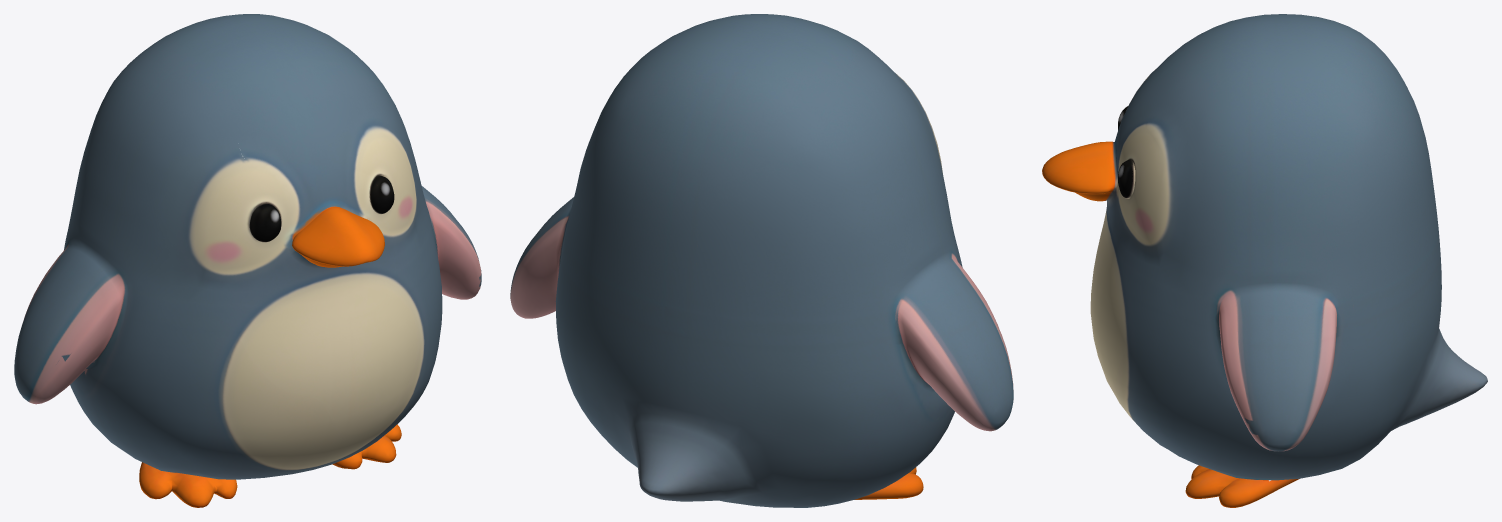
File: original-textured.glb
3 views of the same model, side by side, from view 1: azimuth 30°, elevation 25°; view 2: azimuth 150°, elevation 25°; view 3: azimuth 270°, elevation 25° (orthographic). The views are drawn at different scales.
Visible parts, largest first — view 1: tripo_3bff3dc2_4bf0_4faf_b046_139c10be79ef; view 2: tripo_3bff3dc2_4bf0_4faf_b046_139c10be79ef; view 3: tripo_3bff3dc2_4bf0_4faf_b046_139c10be79ef.
Boxes of the visible parts, bbox=[...] form: tripo_3bff3dc2_4bf0_4faf_b046_139c10be79ef: bbox=[14, 14, 481, 507]; tripo_3bff3dc2_4bf0_4faf_b046_139c10be79ef: bbox=[510, 14, 1013, 507]; tripo_3bff3dc2_4bf0_4faf_b046_139c10be79ef: bbox=[1042, 14, 1487, 507].
Size of the model in its own units: 0.9995 by 0.8862 by 0.855.
Materials: 1 (1 with a texture image).
